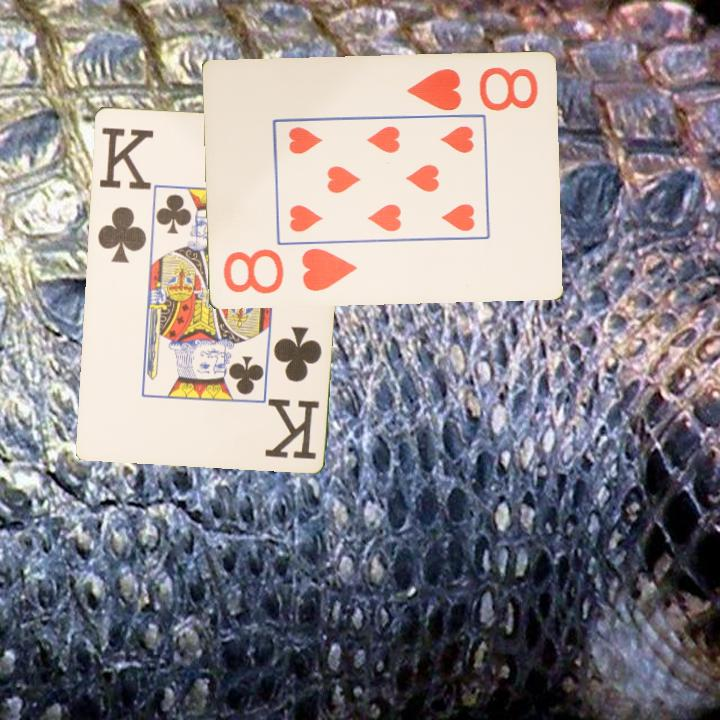8h: (219, 245, 360, 298), (403, 64, 541, 115)
Kc: (93, 123, 155, 266), (263, 322, 324, 461)
